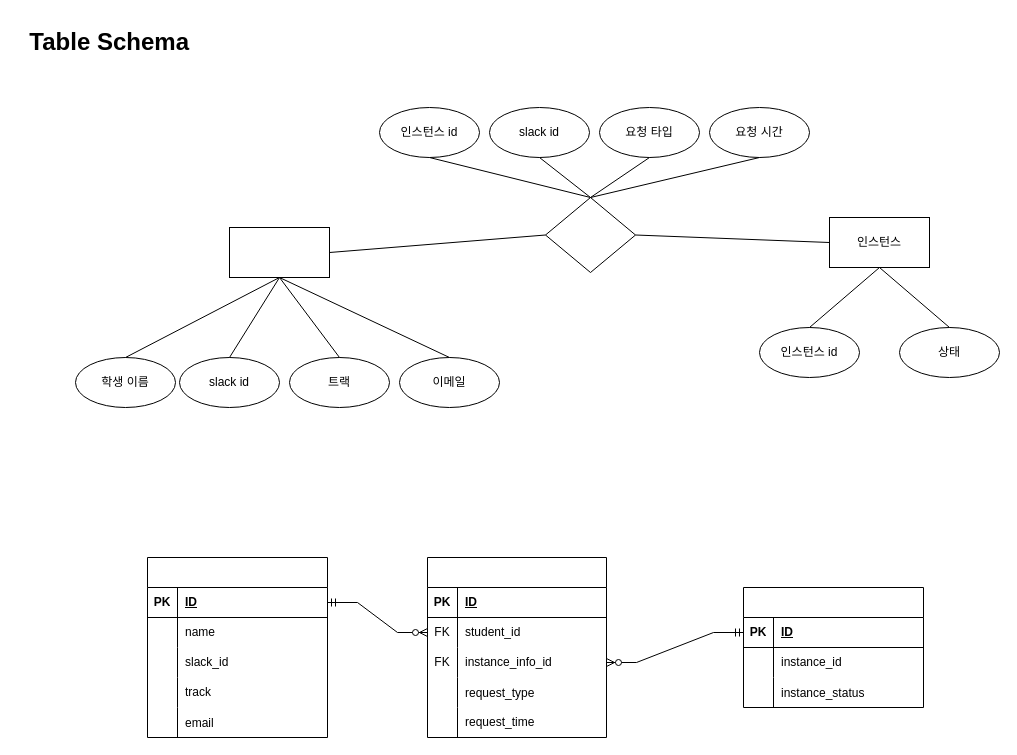
Image size: 1017x755. Some labels were removed from this diagram. Here are the shapes that lost their labels. From the top down, the box of each, then its label:
(228, 226, 330, 278): 학생
(544, 196, 636, 272): 요청
(146, 556, 328, 738): student
(426, 556, 606, 738): slack_instance_request_log
(742, 586, 924, 708): Instance_info
